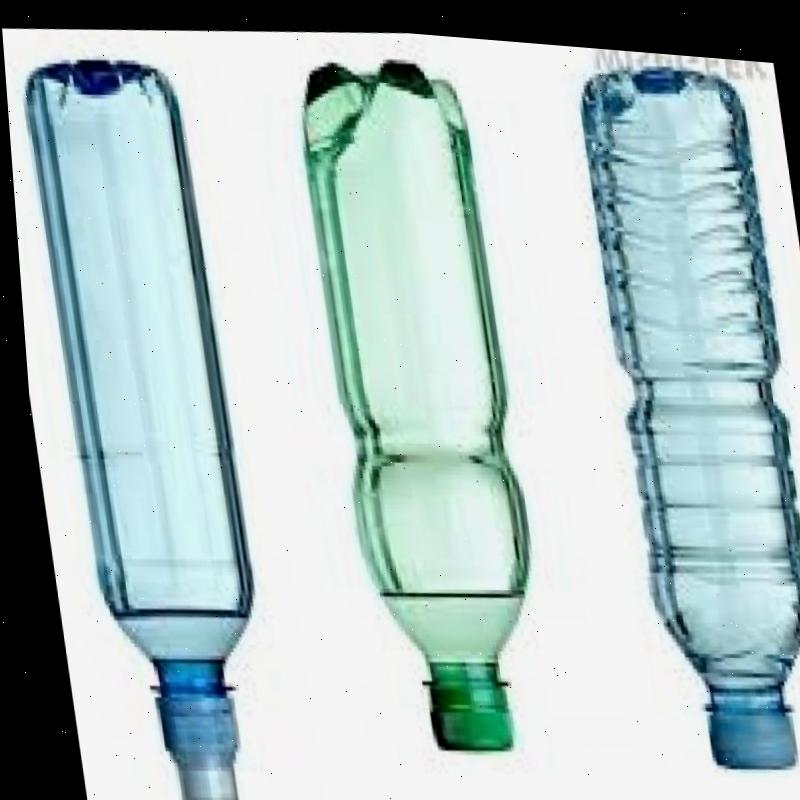botella: (15, 41, 267, 800), (288, 48, 548, 753), (569, 42, 800, 767)
